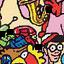waldo: (38, 32, 63, 63)
